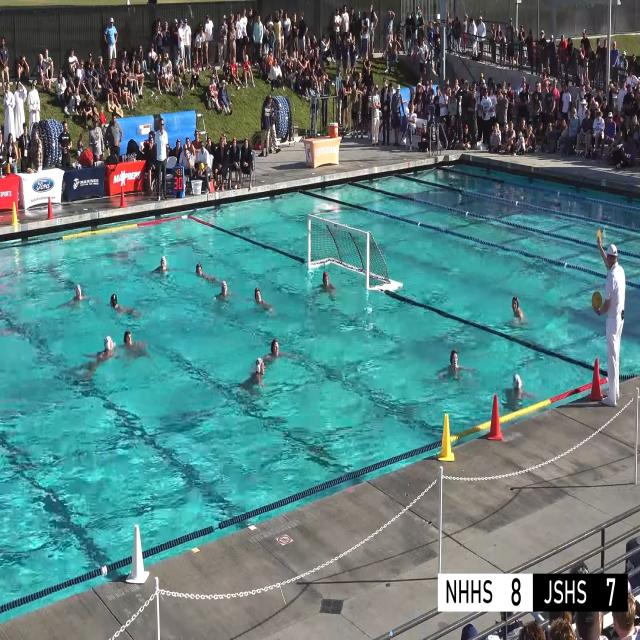ball: (592, 291, 602, 310), (200, 163, 204, 170)
